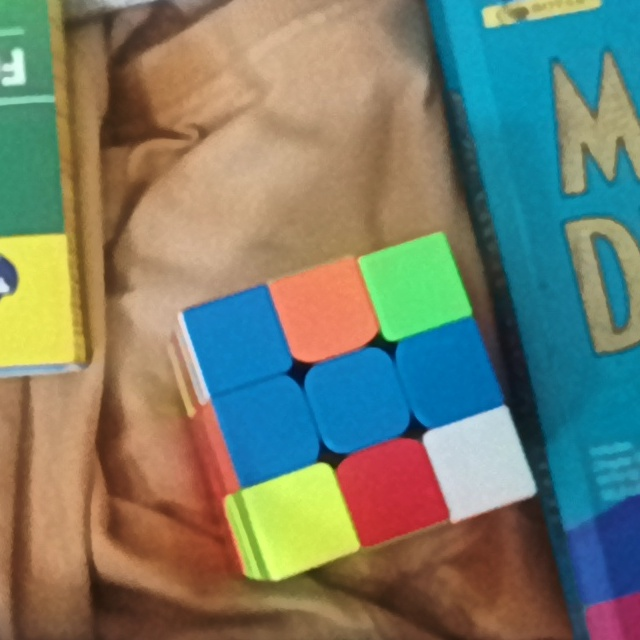tile: (288, 278, 364, 343), (237, 394, 305, 465), (447, 429, 514, 501), (268, 485, 337, 554), (416, 338, 484, 408), (357, 454, 425, 523), (327, 367, 397, 434), (381, 253, 448, 320), (212, 303, 274, 373)
